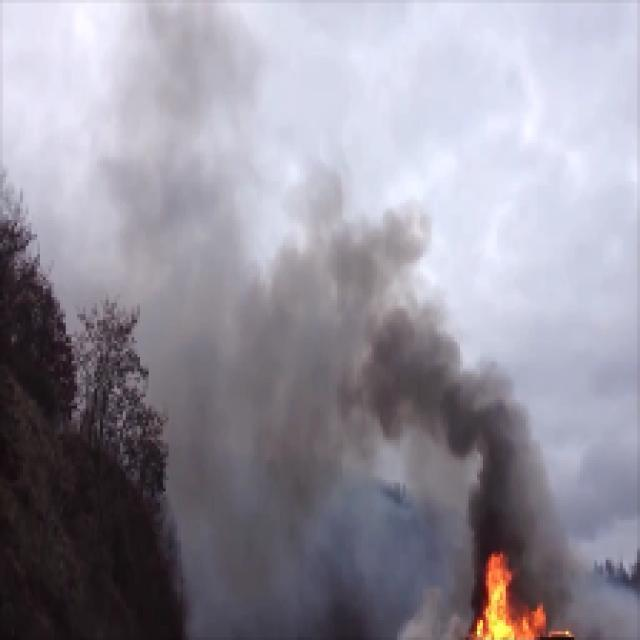Fire: (476, 554, 554, 636)
